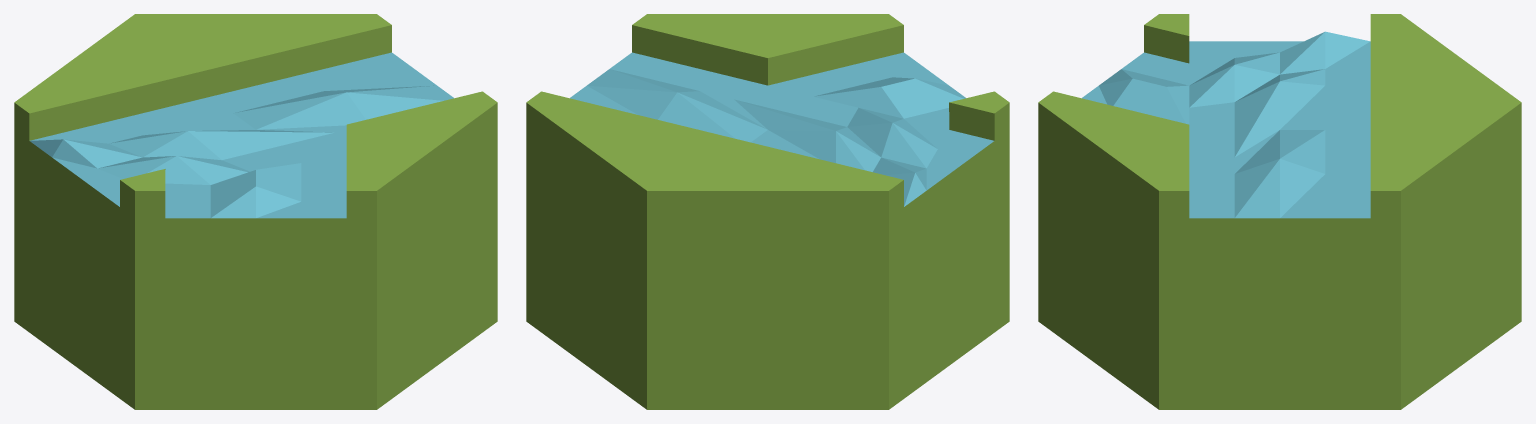
Rendered from river4.fbx.
3 views of the same model, side by side, from view 1: azimuth 30°, elevation 25°; view 2: azimuth 150°, elevation 25°; view 3: azimuth 270°, elevation 25° (orthographic).
Visible parts, largest first — view 1: Cylinder; view 2: Cylinder; view 3: Cylinder.
Boxes of the visible parts, x1=… form: Cylinder: x1=14, y1=14, x2=497, y2=409; Cylinder: x1=526, y1=14, x2=1009, y2=409; Cylinder: x1=1038, y1=14, x2=1521, y2=409.
Size of the model in its own units: 1.73 by 1 by 2.
